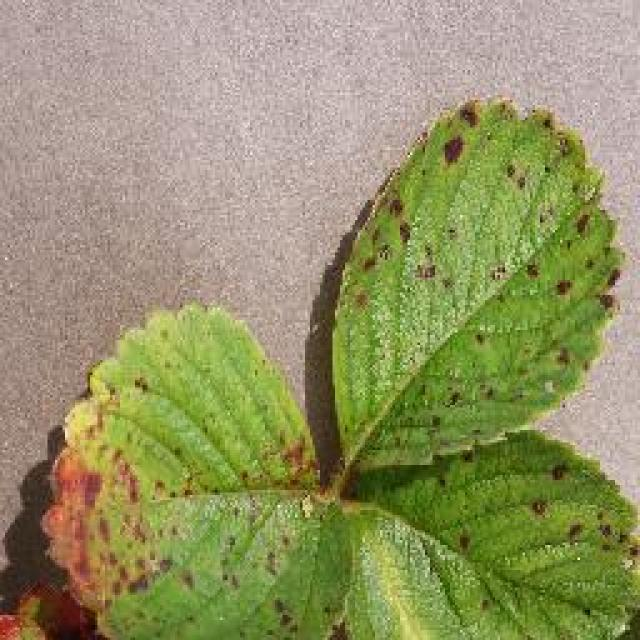Strawberry leaf scorch: (46, 130, 622, 625)
